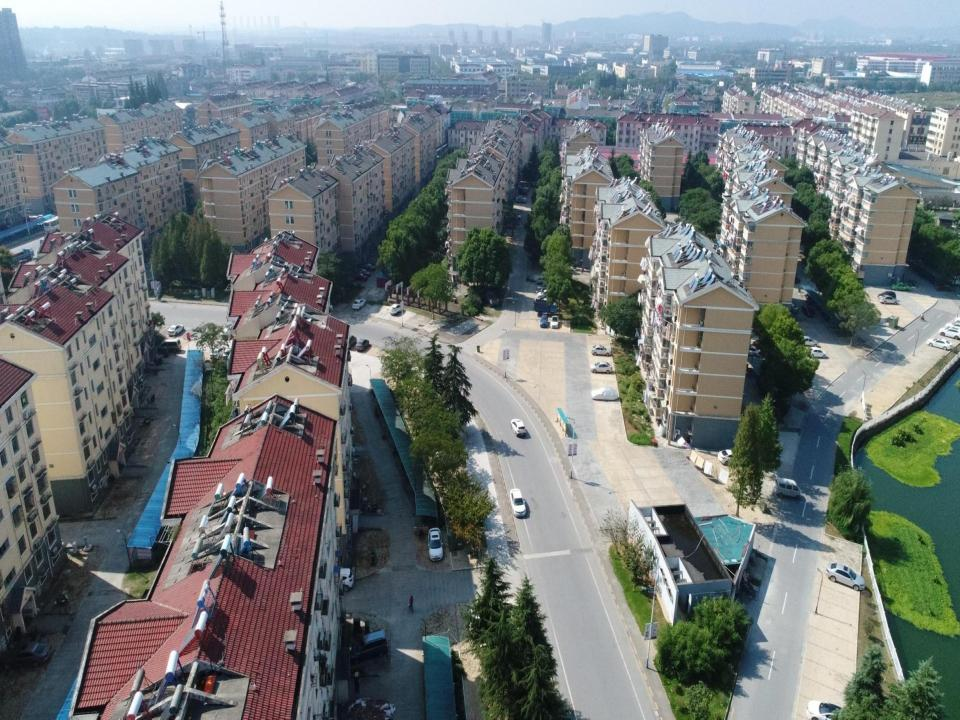bus: (43, 214, 67, 234)
car: (4, 643, 52, 669), (826, 562, 865, 592), (806, 699, 848, 719), (330, 567, 354, 592), (428, 527, 444, 561), (509, 487, 526, 518), (718, 448, 742, 466), (926, 337, 954, 352), (591, 388, 619, 402), (510, 418, 527, 438), (590, 361, 613, 374), (938, 327, 959, 341), (590, 344, 612, 357), (890, 281, 912, 293), (799, 335, 819, 348), (806, 346, 827, 358), (744, 344, 762, 358), (801, 302, 815, 318), (167, 323, 184, 336), (878, 290, 896, 300), (389, 303, 404, 315), (944, 322, 960, 333), (536, 289, 552, 300), (880, 295, 899, 304), (355, 339, 369, 351), (352, 298, 366, 310), (361, 262, 376, 272), (786, 301, 798, 313), (354, 272, 368, 282), (536, 282, 551, 291), (536, 275, 549, 285), (550, 315, 559, 329), (356, 268, 370, 277), (514, 195, 527, 204), (540, 314, 548, 328), (509, 213, 522, 220), (519, 184, 529, 193)
truck: (532, 298, 558, 315), (484, 289, 499, 308)
van: (350, 628, 389, 664), (772, 477, 801, 501), (158, 338, 181, 352), (345, 334, 356, 350)
